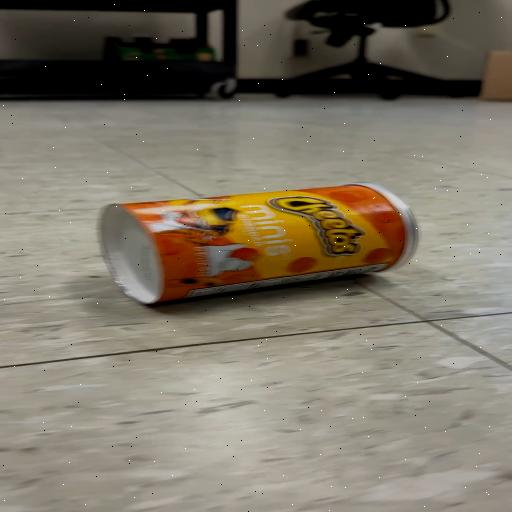pringles: (100, 184, 418, 304)
